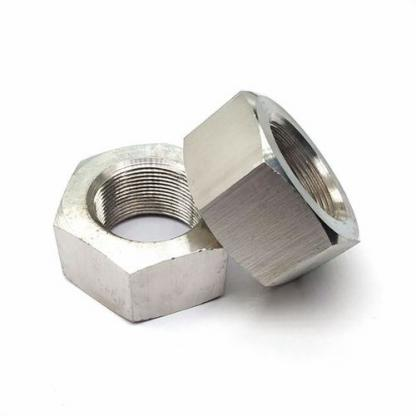FOD: (182, 87, 363, 291), (48, 139, 234, 325)
